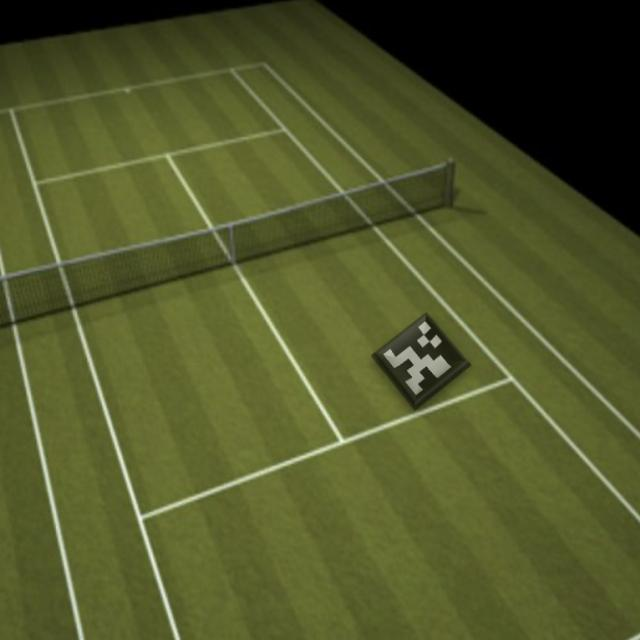marker: (369, 302, 477, 415)
